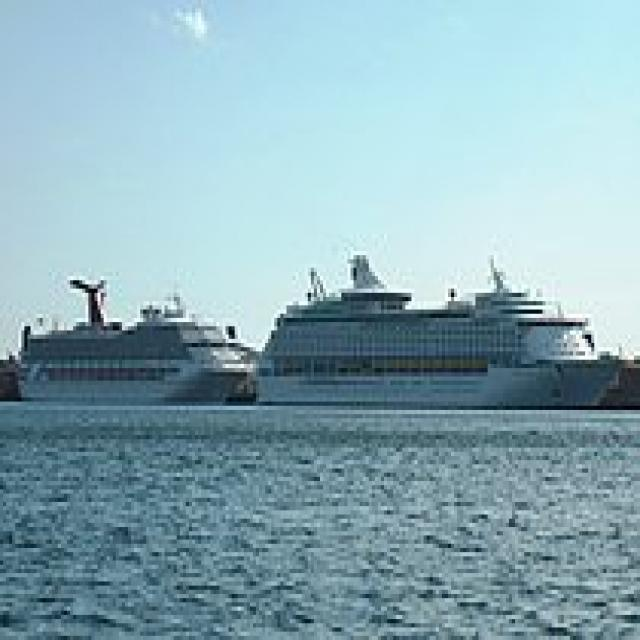Ship: (254, 227, 629, 436), (19, 256, 260, 419)
